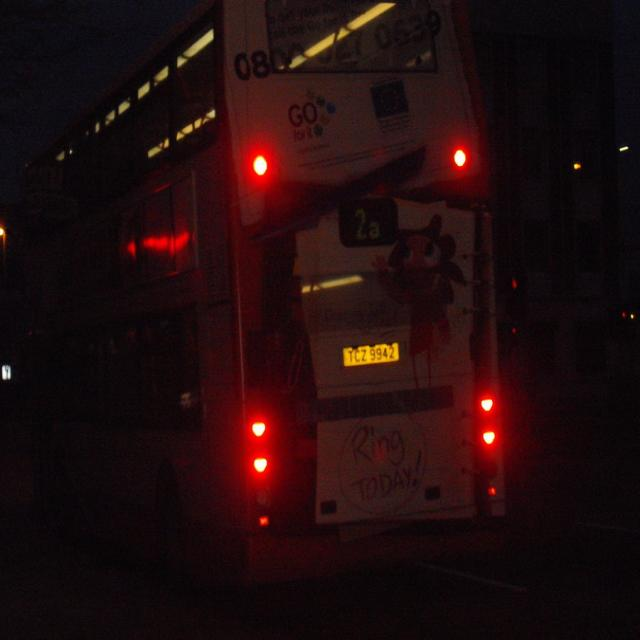Bus: (12, 0, 538, 600)
